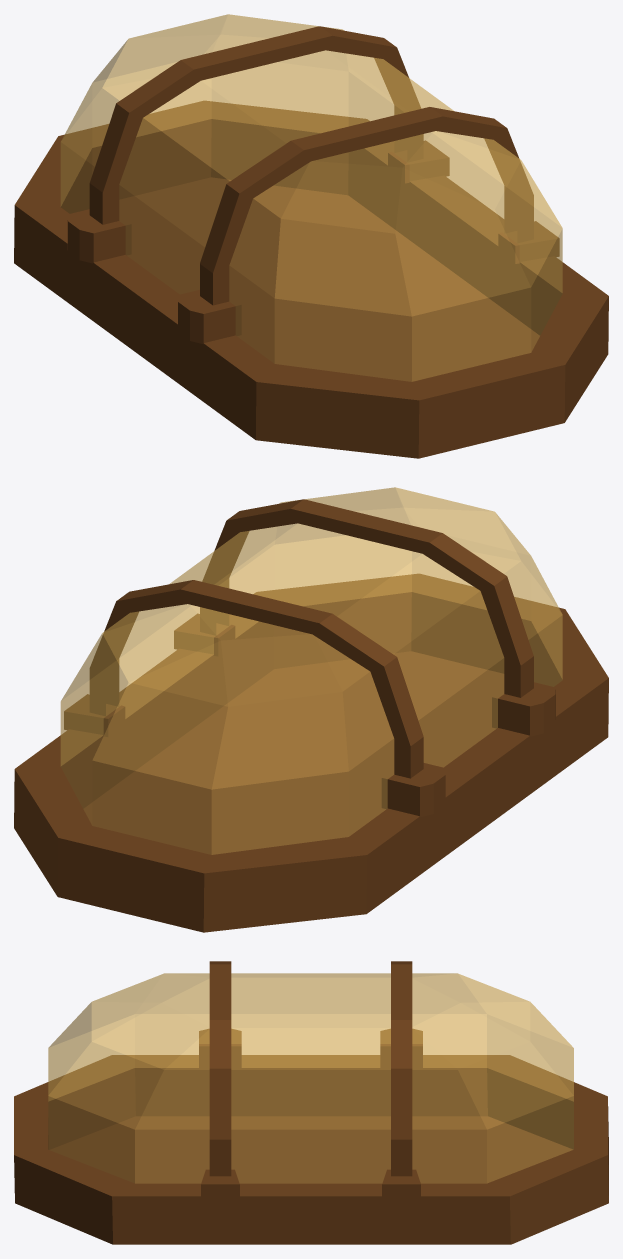
File: lantern.fbx
3 views of the same model, one above another, from view 1: azimuth 30°, elevation 25°; view 2: azimuth 150°, elevation 25°; view 3: azimuth 270°, elevation 25° (orthographic). The views are drawn at different scales.
Visible parts, largest first — view 1: Circle; view 2: Circle; view 3: Circle.
Boxes of the visible parts, x1,y1,x2,y2 form: Circle: (14,14,608,458); Circle: (14,487,608,932); Circle: (14,961,608,1244).
Size of the model in its own units: 191 by 111 by 328.
